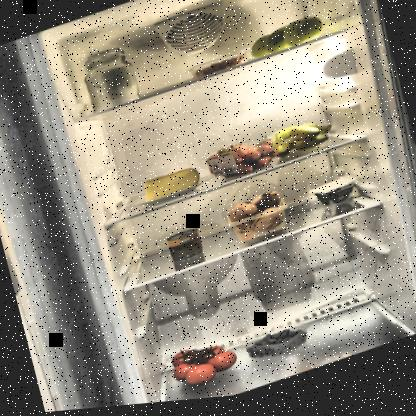apple: (242, 16, 326, 67)
banana: (268, 117, 338, 168)
blueberries: (244, 318, 322, 372)
cheese: (138, 162, 204, 210)
corn: (162, 226, 210, 270)
onion: (224, 190, 292, 251)
shrimp: (186, 50, 252, 85)
strawberries: (206, 134, 280, 191)
tomato: (165, 334, 242, 397)
